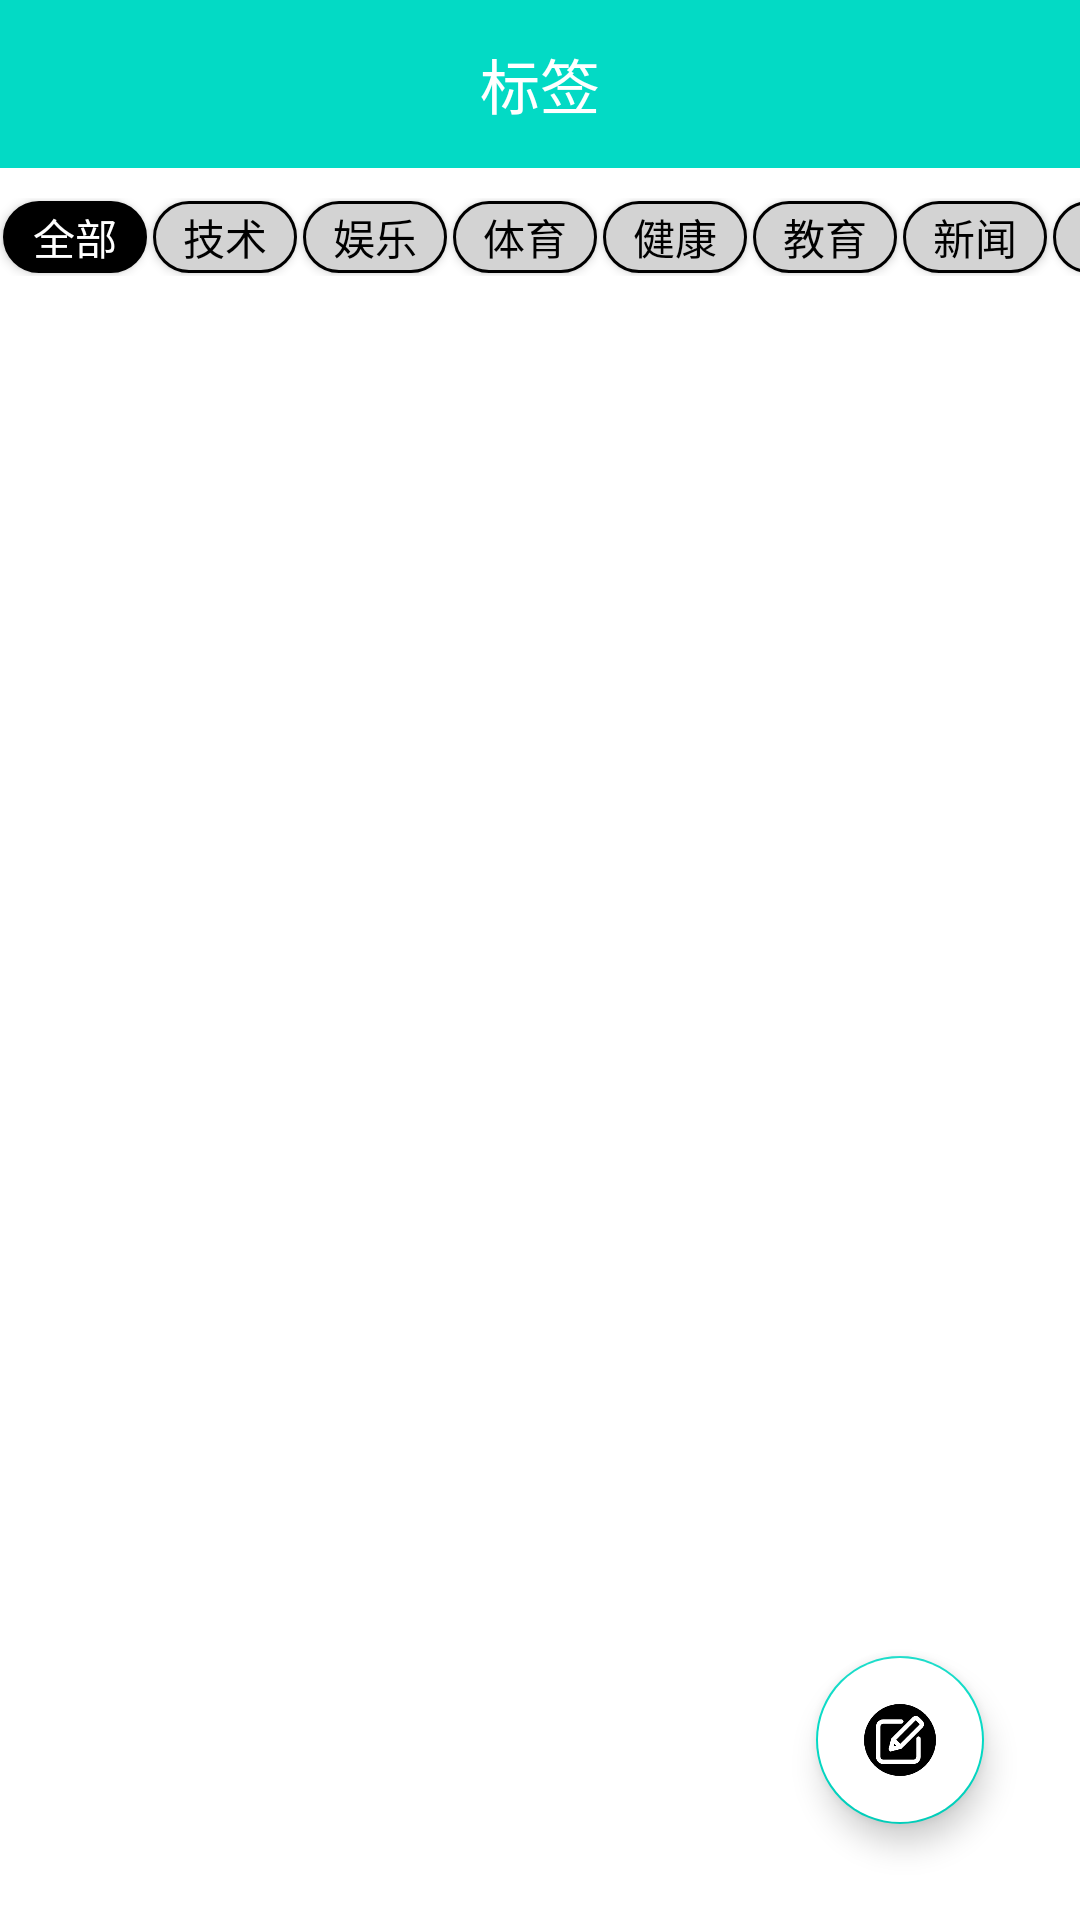

Icons on this 1080px x 1920px Android screen, each with the point to tap as (x,y):
addpost: (900,1740)
